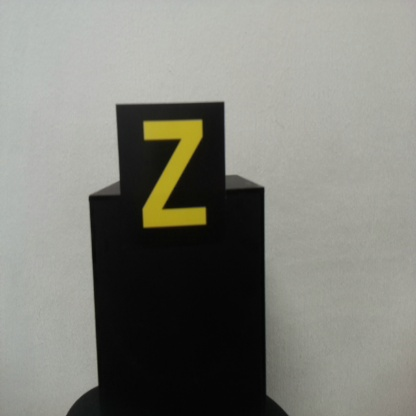id_15: (117, 104, 227, 245)
